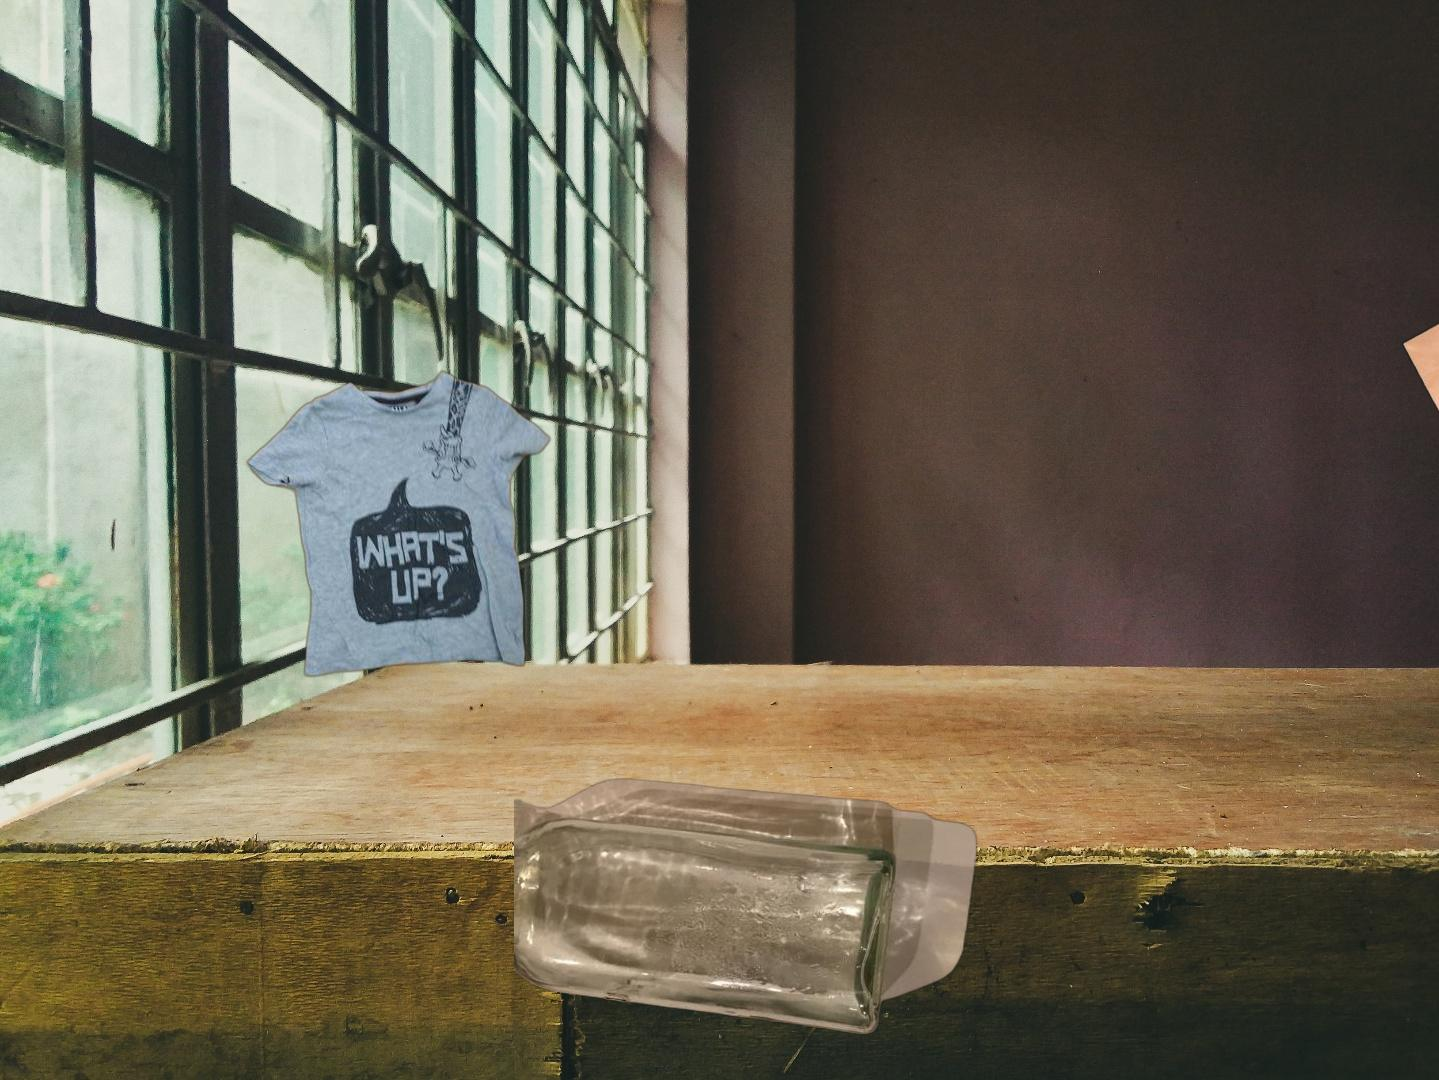clothes: (243, 368, 555, 681)
glass: (514, 776, 982, 1038)
paper-bag: (1327, 253, 1439, 486)
